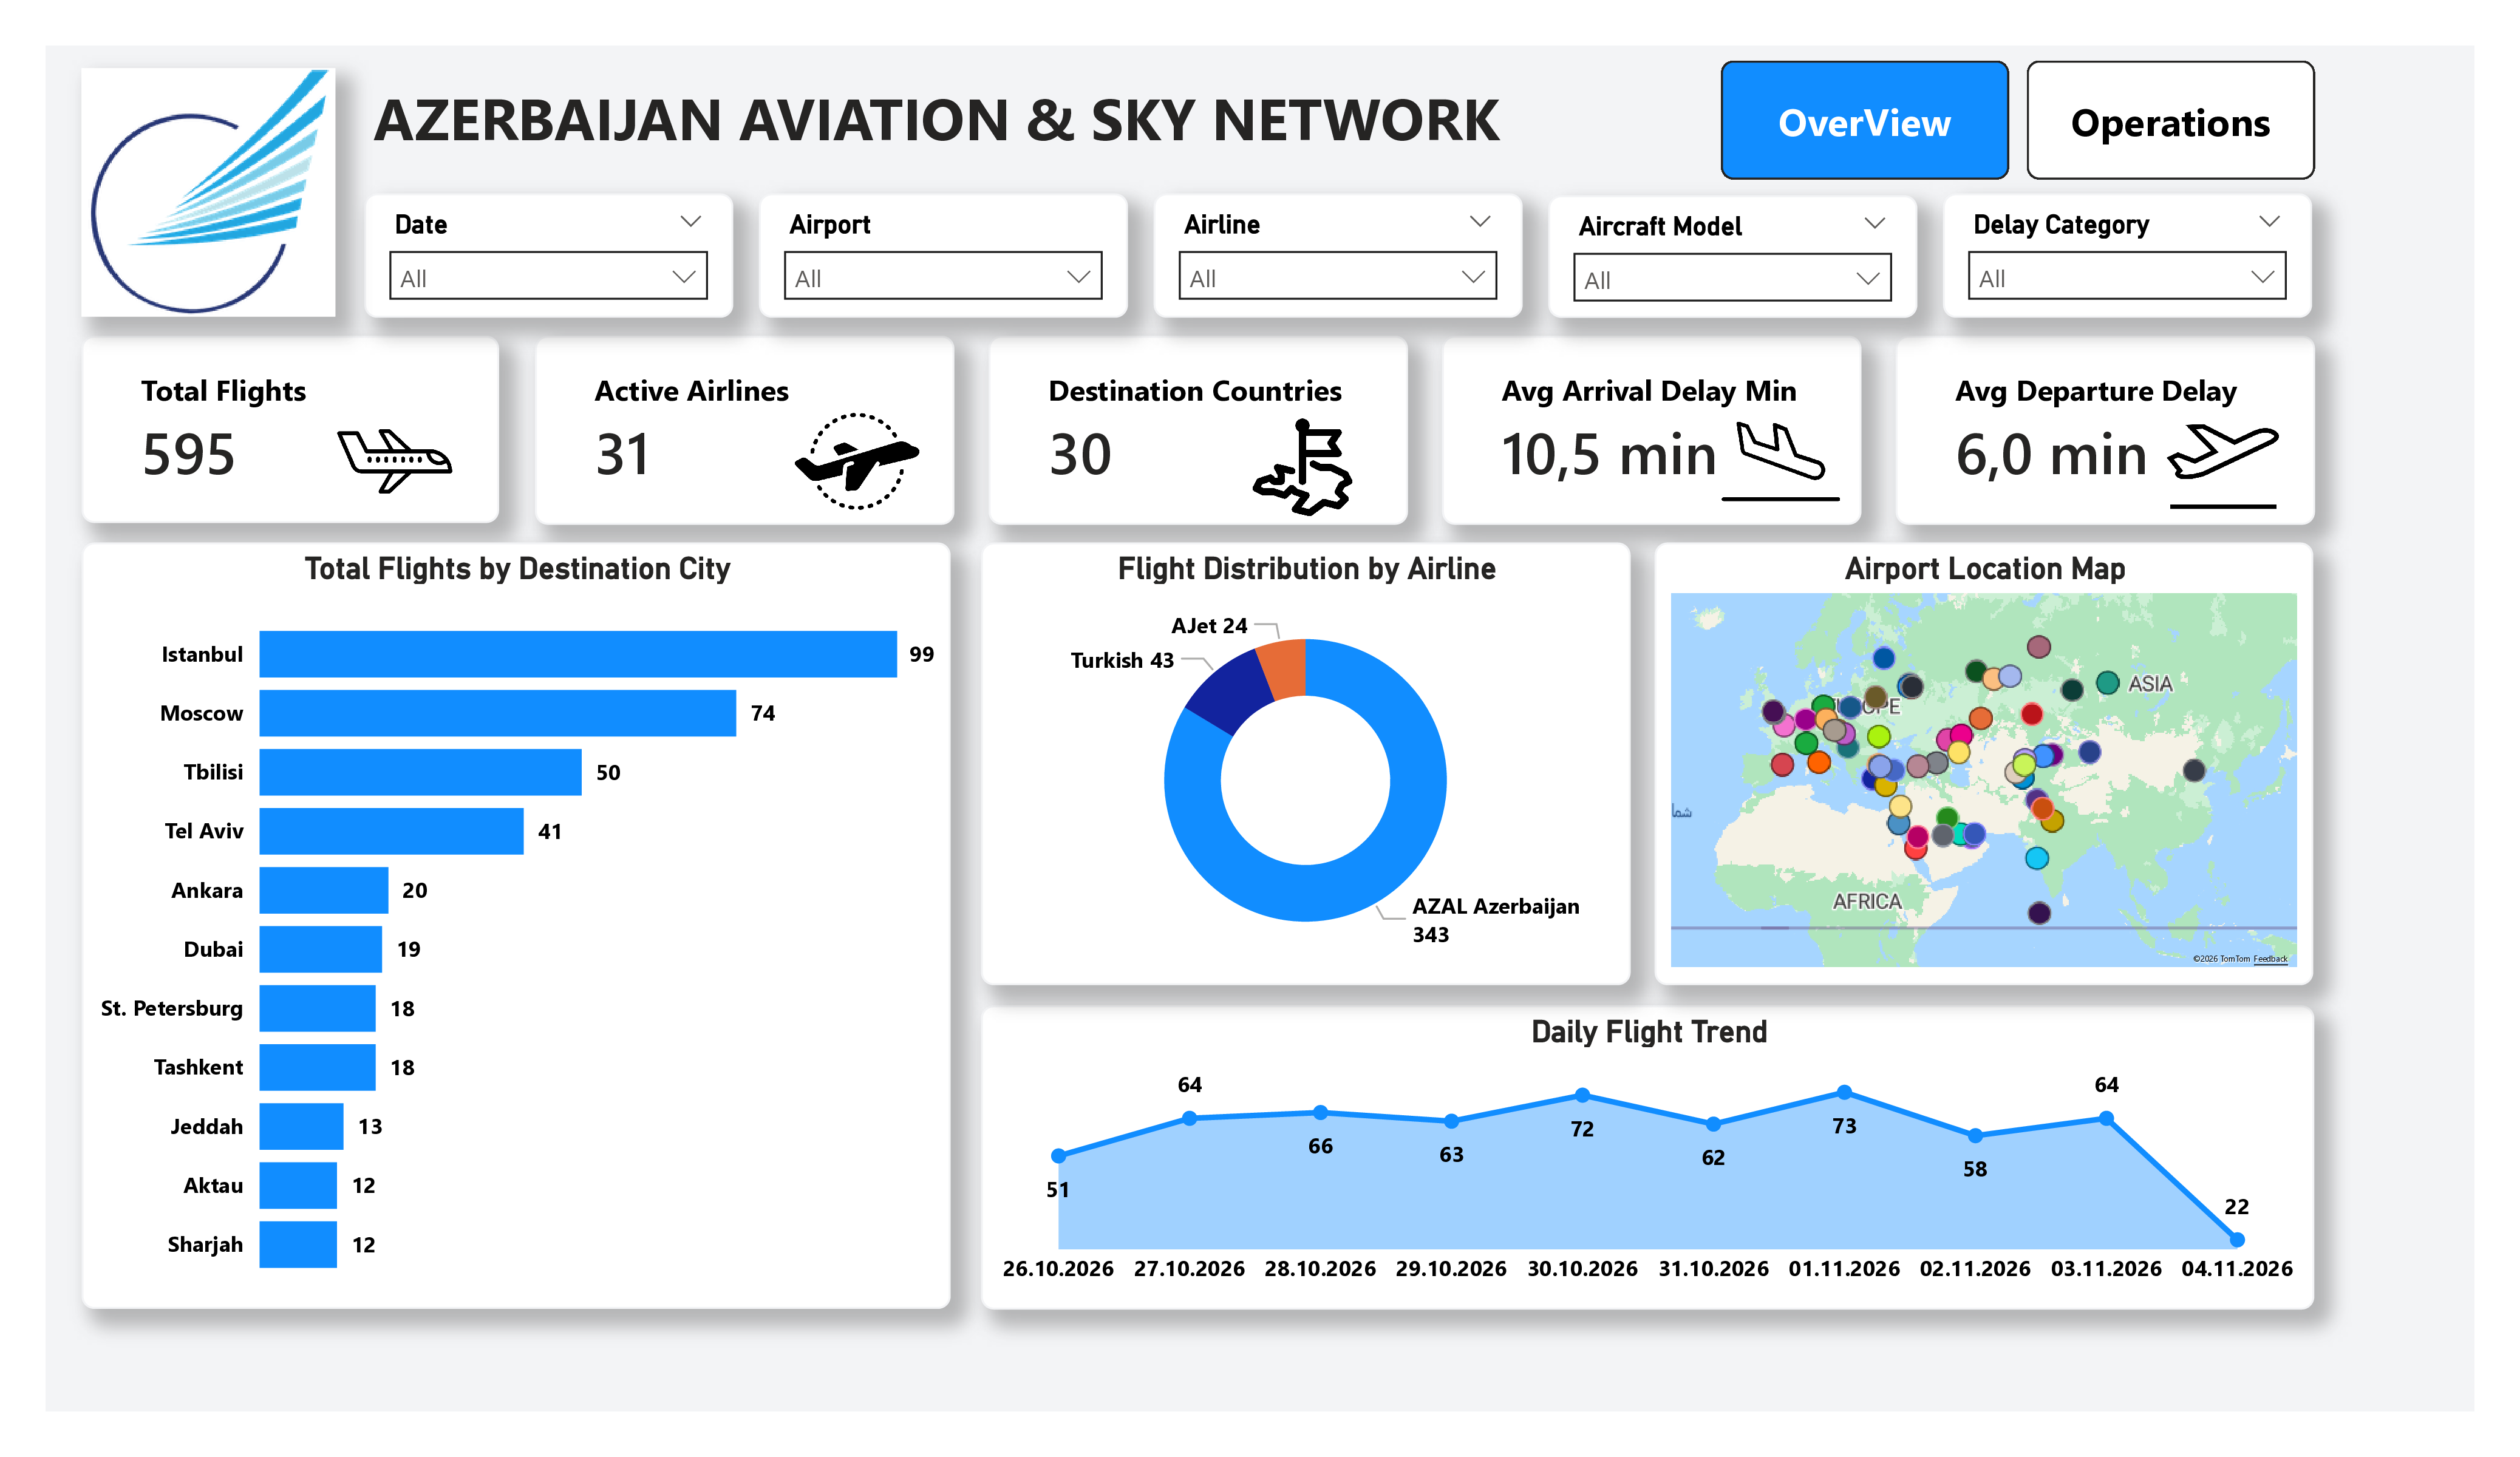

What the dashboard file says about the page in this screenshot:
{"tool":"powerbi","page":{"name":"OverView","canvas":[1280,720],"ordinal":0},"visuals":[{"type":"cardVisual","fields":{"Data":["_Measures.Total Flights"]},"box":[20,161.7,232,104.4],"z":0},{"type":"cardVisual","fields":{"Data":["_Measures.Active Airlines"]},"box":[271.6,161.5,232.7,104.6],"z":1000},{"type":"cardVisual","fields":{"Data":["_Measures.Destination Countries"]},"box":[523.8,161.5,232.7,104.6],"z":2000},{"type":"cardVisual","fields":{"Data":["_Measures.Avg Arrival Delay Min"]},"box":[775.9,161.5,232.7,104.6],"z":3000},{"type":"cardVisual","fields":{"Data":["_Measures.Avg Delay Min"]},"box":[1028.1,161.5,232.7,104.6],"z":4000},{"type":"clusteredBarChart","title":"Total Flights by Destination City","fields":{"Y":["_Measures.Total Flights"],"Category":["dim_airports.city_name"]},"box":[20,276.3,483.1,426.1],"z":5000},{"type":"areaChart","title":"Daily Flight Trend","fields":{"Category":["dim_date.full_date"],"Y":["_Measures.Total Flights"]},"box":[520,533.7,741.5,168.8],"z":6000},{"type":"donutChart","title":"Flight Distribution by Airline","fields":{"Category":["dim_airlines.airline_name"],"Y":["_Measures.Total Flights"]},"box":[520,276.3,360.7,245.7],"z":7000},{"type":"pageNavigator","box":[931.3,8.4,330.1,66.4],"z":8000},{"type":"textbox","box":[177.2,12.7,658.1,62.2],"z":9000},{"type":"azureMap","title":"Airport Location Map","fields":{"Y":["dim_airports.latitude"],"X":["dim_airports.longitude"],"Series":["fact_flights.destination_iata"]},"box":[894.4,276.3,366,245.7],"z":10000},{"type":"slicer","fields":{"Values":["dim_date.full_date"]},"box":[177.2,82.6,204.6,68.6],"z":11000},{"type":"slicer","fields":{"Values":["dim_airports.airport_name"]},"box":[396.6,82.6,204.6,68.6],"z":12000},{"type":"slicer","fields":{"Values":["dim_airlines.airline_name"]},"box":[615.9,82.6,204.6,68.6],"z":13000},{"type":"slicer","fields":{"Values":["dim_aircraft_models.aircraft_model"]},"box":[835.3,83.7,204.6,67.5],"z":14000},{"type":"slicer","fields":{"Values":["fact_flights.Delay_Category"]},"box":[1054.7,82.6,204.6,68.6],"z":15000},{"type":"image","box":[20,12.7,141.3,138.2],"z":16000},{"type":"image","box":[918.3,195.7,91.8,70.1],"z":16001},{"type":"image","box":[1157.6,203,103.9,62.8],"z":16002},{"type":"image","box":[640.2,203.6,117.1,62.2],"z":16003},{"type":"image","box":[396.6,196.2,108.6,69.6],"z":16004},{"type":"image","box":[136.1,196.2,116,69.6],"z":16005}]}

Visuals, with their boxes on the page's 1280x720 design canvas (x1, y1, x2, y2). These are canvas units, not pixel positions in the 2520x1457 screenshot, which may show the page scaled, cropped or inside an application window:
cardVisual - _Measures.Total Flights: [left=20, top=162, right=252, bottom=266]
cardVisual - _Measures.Active Airlines: [left=272, top=162, right=504, bottom=266]
cardVisual - _Measures.Destination Countries: [left=524, top=162, right=756, bottom=266]
cardVisual - _Measures.Avg Arrival Delay Min: [left=776, top=162, right=1009, bottom=266]
cardVisual - _Measures.Avg Delay Min: [left=1028, top=162, right=1261, bottom=266]
"Total Flights by Destination City" clusteredBarChart: [left=20, top=276, right=503, bottom=702]
"Daily Flight Trend" areaChart: [left=520, top=534, right=1262, bottom=702]
"Flight Distribution by Airline" donutChart: [left=520, top=276, right=881, bottom=522]
pageNavigator: [left=931, top=8, right=1261, bottom=75]
textbox: [left=177, top=13, right=835, bottom=75]
"Airport Location Map" azureMap: [left=894, top=276, right=1260, bottom=522]
slicer - dim_date.full_date: [left=177, top=83, right=382, bottom=151]
slicer - dim_airports.airport_name: [left=397, top=83, right=601, bottom=151]
slicer - dim_airlines.airline_name: [left=616, top=83, right=820, bottom=151]
slicer - dim_aircraft_models.aircraft_model: [left=835, top=84, right=1040, bottom=151]
slicer - fact_flights.Delay_Category: [left=1055, top=83, right=1259, bottom=151]
image: [left=20, top=13, right=161, bottom=151]
image: [left=918, top=196, right=1010, bottom=266]
image: [left=1158, top=203, right=1262, bottom=266]
image: [left=640, top=204, right=757, bottom=266]
image: [left=397, top=196, right=505, bottom=266]
image: [left=136, top=196, right=252, bottom=266]
